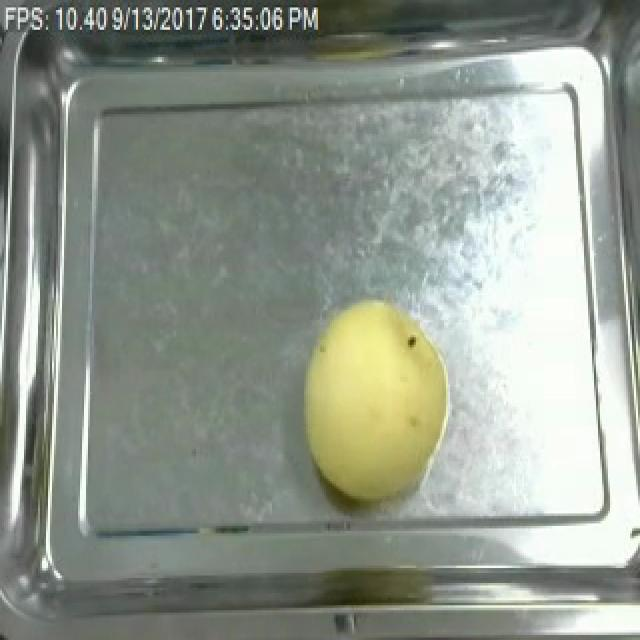Fruit: (294, 287, 458, 503)
